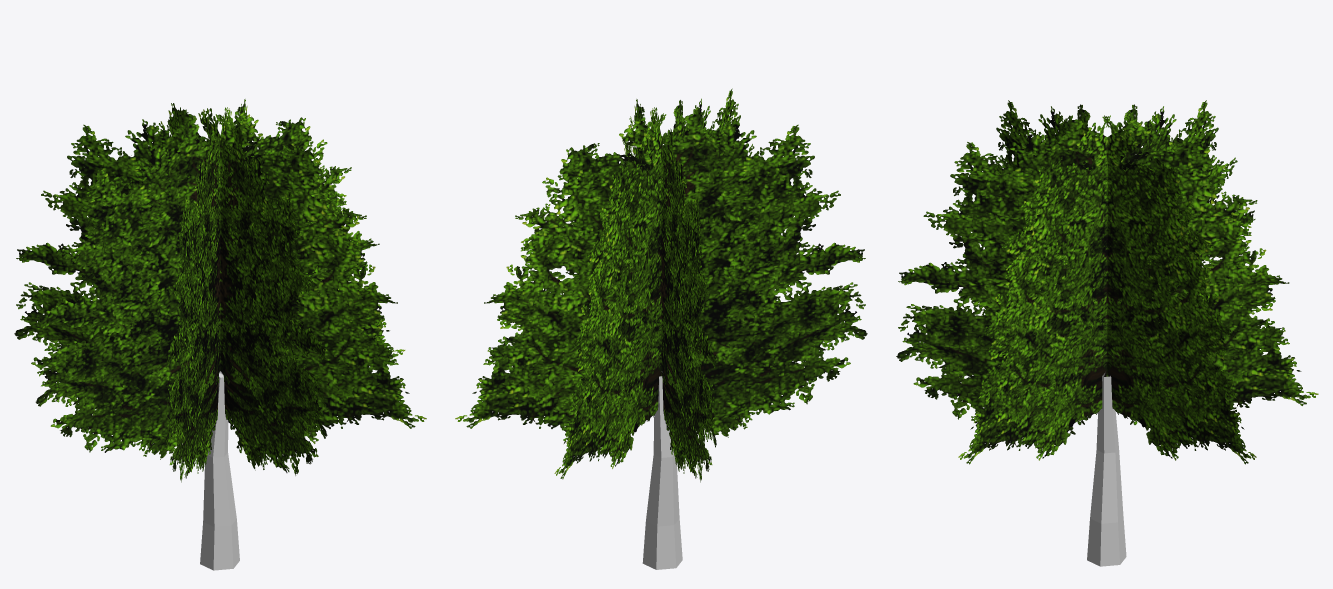
The model's file is TREE_02.fbx.
The picture shows the model from 3 angles, left to right: view 1: azimuth 30°, elevation 25°; view 2: azimuth 150°, elevation 25°; view 3: azimuth 270°, elevation 25°; orthographic projection.
Parts seen in each view (by area): view 1: TREE_02; view 2: TREE_02; view 3: TREE_02.
Boxes of the visible parts, x1,y1,x2,y2 form: TREE_02: [14, 99, 426, 570]; TREE_02: [455, 88, 867, 569]; TREE_02: [896, 100, 1318, 566].
Bounding box in the file's own units: 519 × 618 × 519.
